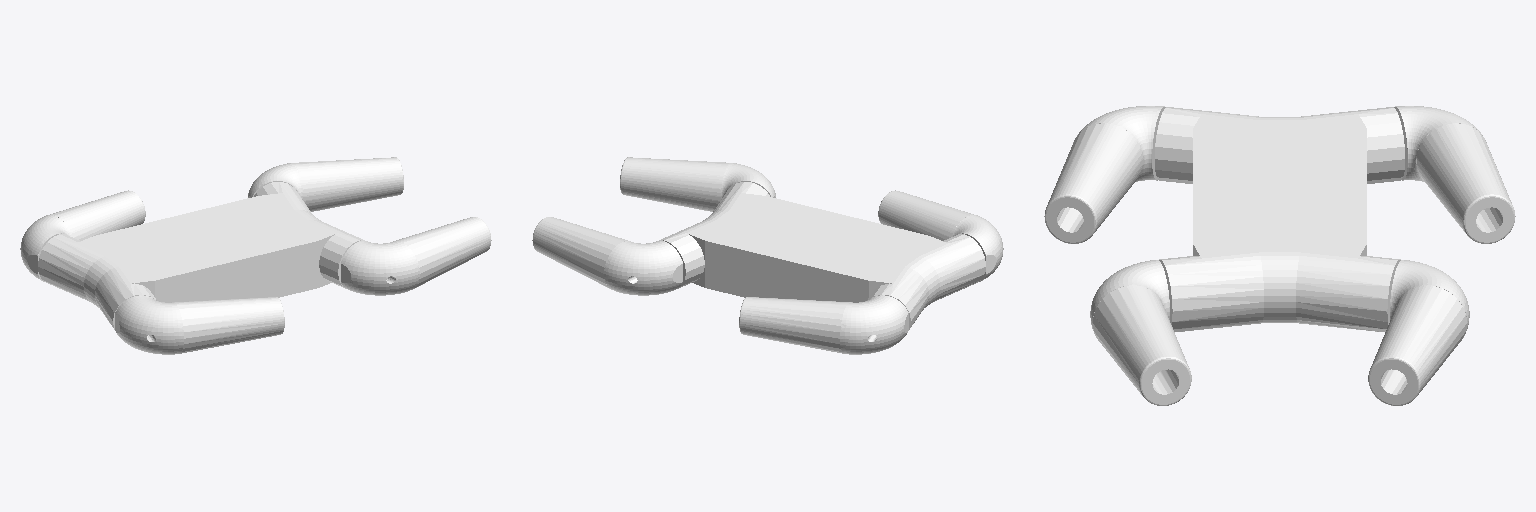
The robot description file, URDF, robot "14_degree":
<?xml version="1.0" encoding="utf-8"?>
<!-- This URDF was automatically created by SolidWorks to URDF Exporter! Originally created by [author] ([email redacted]) 
     Commit Version: 1.5.1-0-g916b5db  Build Version: 1.5.7152.31018
     For more information, please see http://wiki.ros.org/sw_urdf_exporter -->
<robot
  name="14_degree">
  <link
    name="base_link">
    <inertial>
      <origin
        xyz="3.4694E-17 4.9492E-08 3.4694E-18"
        rpy="0 0 0" />
      <mass
        value="2.803" />
      <inertia
        ixx="0.010028323"
        ixy="2.5808E-19"
        ixz="-8.4934E-11"
        iyy="0.040348331"
        iyz="-2.7128E-18"
        izz="0.048011388" />
    </inertial>
    <visual>
      <origin
        xyz="0 0 0"
        rpy="0 0 0" />
      <geometry>
        <mesh
          filename="package://14_degree/meshes/base_link.STL" />
      </geometry>
      <material
        name="">
        <color
          rgba="1 1 1 1" />
      </material>
    </visual>
    <collision>
      <origin
        xyz="0 0 0"
        rpy="0 0 0" />
      <geometry>
        <mesh
          filename="package://14_degree/meshes/base_link.STL" />
      </geometry>
    </collision>
  </link>
  <link
    name="left_fromt_link">
    <inertial>
      <origin
        xyz="-2.0947E-08 0.067531 -0.020419"
        rpy="0 0 0" />
      <mass
        value="0.0881" />
      <inertia
        ixx="0.000276371"
        ixy="7.923E-10"
        ixz="6.9662E-10"
        iyy="0.000052432"
        iyz="-0.00003286"
        izz="0.00027104" />
    </inertial>
    <visual>
      <origin
        xyz="0 0 0"
        rpy="0 0 0" />
      <geometry>
        <mesh
          filename="package://14_degree/meshes/left_fromt_link.STL" />
      </geometry>
      <material
        name="">
        <color
          rgba="1 1 1 1" />
      </material>
    </visual>
    <collision>
      <origin
        xyz="0 0 0"
        rpy="0 0 0" />
      <geometry>
        <mesh
          filename="package://14_degree/meshes/left_fromt_link.STL" />
      </geometry>
    </collision>
  </link>
  <joint
    name="left_front_leg"
    type="continuous">
    <origin
      xyz="0.15492 0.09994 0"
      rpy="1.5708 1.5708 0" />
    <parent
      link="base_link" />
    <child
      link="left_fromt_link" />
    <axis
      xyz="0 0.24192 -0.9703" />
    <limit
      effort="5"
      velocity="487" />
  </joint>
  <link
    name="right_front_link">
    <inertial>
      <origin
        xyz="2.0947E-08 0.067531 0.020419"
        rpy="0 0 0" />
      <mass
        value="0.0881" />
      <inertia
        ixx="0.000276371"
        ixy="-7.923E-10"
        ixz="6.9662E-10"
        iyy="0.000052432"
        iyz="0.00003286"
        izz="0.00027104" />
    </inertial>
    <visual>
      <origin
        xyz="0 0 0"
        rpy="0 0 0" />
      <geometry>
        <mesh
          filename="package://14_degree/meshes/right_front_link.STL" />
      </geometry>
      <material
        name="">
        <color
          rgba="1 1 1 1" />
      </material>
    </visual>
    <collision>
      <origin
        xyz="0 0 0"
        rpy="0 0 0" />
      <geometry>
        <mesh
          filename="package://14_degree/meshes/right_front_link.STL" />
      </geometry>
    </collision>
  </link>
  <joint
    name="right_front_leg"
    type="continuous">
    <origin
      xyz="0.15492 -0.09994 0"
      rpy="1.5708 1.5708 0" />
    <parent
      link="base_link" />
    <child
      link="right_front_link" />
    <axis
      xyz="0 0.24192 0.9703" />
    <limit
      effort="5"
      velocity="487" />
  </joint>
  <link
    name="right_back_link">
    <inertial>
      <origin
        xyz="8.5126E-08 0.06059 0.036149"
        rpy="0 0 0" />
      <mass
        value="0.0881" />
      <inertia
        ixx="0.000276371"
        ixy="-5.774E-10"
        ixz="2.4425E-10"
        iyy="0.000049799"
        iyz="-0.000022302"
        izz="0.000273672" />
    </inertial>
    <visual>
      <origin
        xyz="0 0 0"
        rpy="0 0 0" />
      <geometry>
        <mesh
          filename="package://14_degree/meshes/right_back_link.STL" />
      </geometry>
      <material
        name="">
        <color
          rgba="1 1 1 1" />
      </material>
    </visual>
    <collision>
      <origin
        xyz="0 0 0"
        rpy="0 0 0" />
      <geometry>
        <mesh
          filename="package://14_degree/meshes/right_back_link.STL" />
      </geometry>
    </collision>
  </link>
  <joint
    name="right_back_leg"
    type="continuous">
    <origin
      xyz="-0.15492 -0.09994 0"
      rpy="1.8151 1.5708 0" />
    <parent
      link="base_link" />
    <child
      link="right_back_link" />
    <axis
      xyz="0 0 1" />
    <limit
      effort="5"
      velocity="487" />
  </joint>
  <link
    name="left_back_link">
    <inertial>
      <origin
        xyz="-8.5126E-08 0.050045 -0.049734"
        rpy="0 0 0" />
      <mass
        value="0.0881" />
      <inertia
        ixx="0.000276371"
        ixy="6.1934E-10"
        ixz="9.7314E-11"
        iyy="0.000073372"
        iyz="0.000072242"
        izz="0.0002501" />
    </inertial>
    <visual>
      <origin
        xyz="0 0 0"
        rpy="0 0 0" />
      <geometry>
        <mesh
          filename="package://14_degree/meshes/left_back_link.STL" />
      </geometry>
      <material
        name="">
        <color
          rgba="1 1 1 1" />
      </material>
    </visual>
    <collision>
      <origin
        xyz="0 0 0"
        rpy="0 0 0" />
      <geometry>
        <mesh
          filename="package://14_degree/meshes/left_back_link.STL" />
      </geometry>
    </collision>
  </link>
  <joint
    name="left_back_leg"
    type="continuous">
    <origin
      xyz="-0.15492 0.09994 0"
      rpy="1.5708 1.5708 0" />
    <parent
      link="base_link" />
    <child
      link="left_back_link" />
    <axis
      xyz="0 -0.24192 -0.9703" />
    <limit
      effort="5"
      velocity="487" />
  </joint>
</robot>

--- What the picture shows (computed from the rendered views, not written in the file) ---
The picture shows the robot from 3 angles, left to right: view 1: azimuth 30°, elevation 25°; view 2: azimuth 150°, elevation 25°; view 3: azimuth 270°, elevation 25°; orthographic projection.
Model 14_degree with 5 links and 4 joints (4 continuous), rooted at base_link, posed all joints at 0.
Links seen in each view (by area): view 1: base_link, right_back_link, right_front_link, left_fromt_link, left_back_link; view 2: base_link, left_back_link, left_fromt_link, right_front_link, right_back_link; view 3: base_link, left_back_link, right_back_link, left_fromt_link, right_front_link.
Boxes of the visible links, x1,y1,x2,y2 form: base_link: [38, 182, 364, 329]; right_back_link: [115, 295, 284, 354]; right_front_link: [341, 217, 491, 295]; left_fromt_link: [248, 157, 403, 211]; left_back_link: [20, 190, 145, 281]; base_link: [659, 182, 985, 329]; left_back_link: [739, 295, 908, 354]; left_fromt_link: [532, 217, 682, 295]; right_front_link: [620, 157, 775, 211]; right_back_link: [878, 190, 1003, 281]; base_link: [1155, 107, 1404, 331]; left_back_link: [1394, 106, 1515, 243]; right_back_link: [1044, 106, 1165, 243]; left_fromt_link: [1368, 260, 1469, 405]; right_front_link: [1090, 260, 1191, 405].
Bounding box of the posed robot: 0.523 × 0.4044 × 0.064 m (x, y, z).
5 mesh visuals loaded from 5 distinct referenced files (5 binary STL).